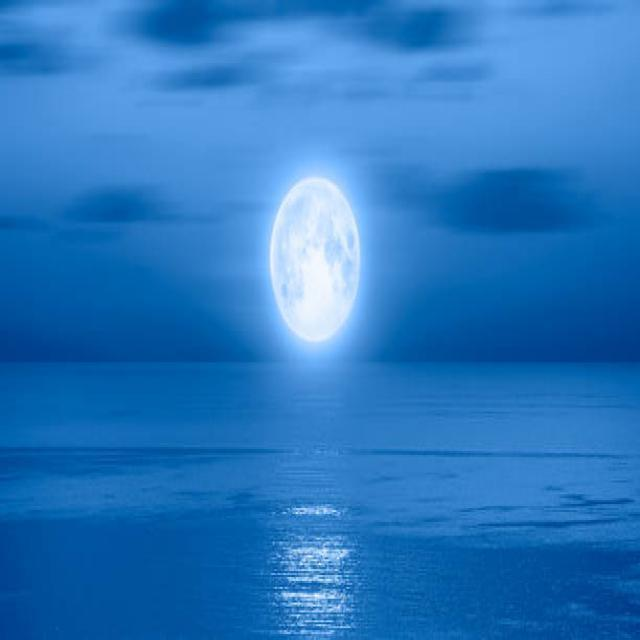moon: (265, 150, 363, 346)
